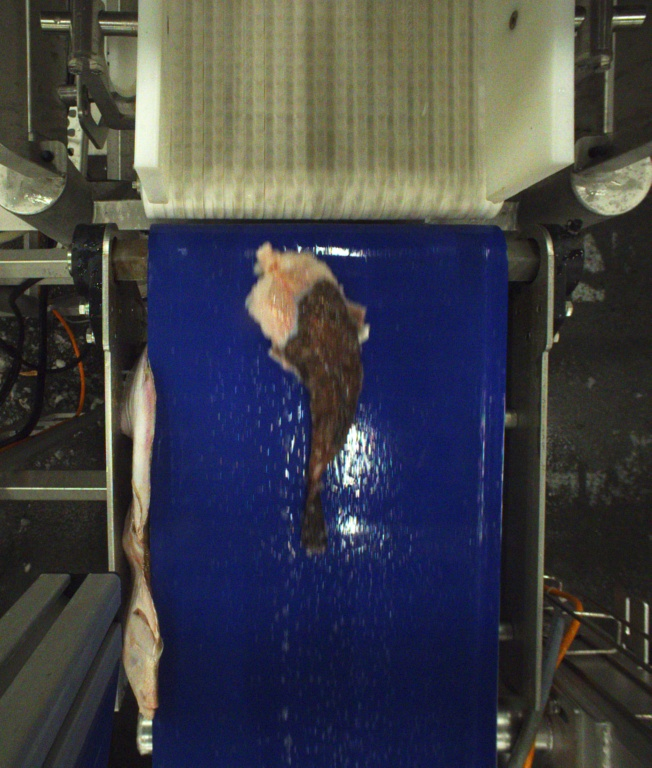ANF: (241, 238, 364, 559)
